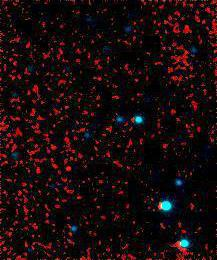star: (54, 154, 84, 184)
